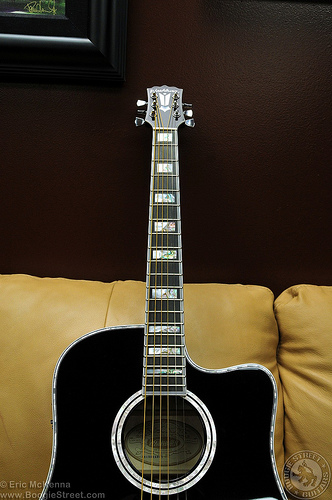guitar: (34, 81, 290, 500)
